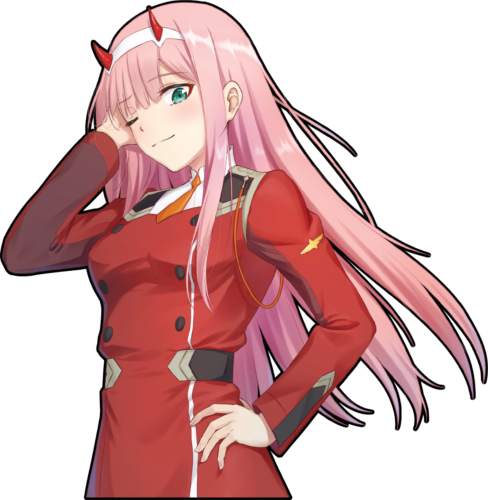zeroTwo: (76, 1, 294, 177)
